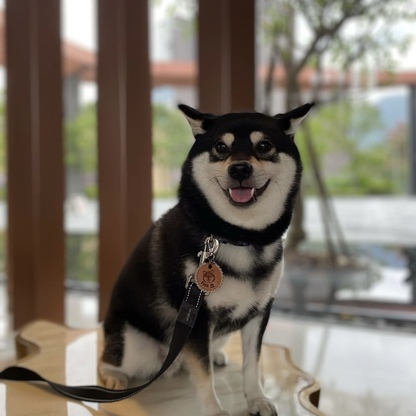shiba: (7, 86, 327, 416)
